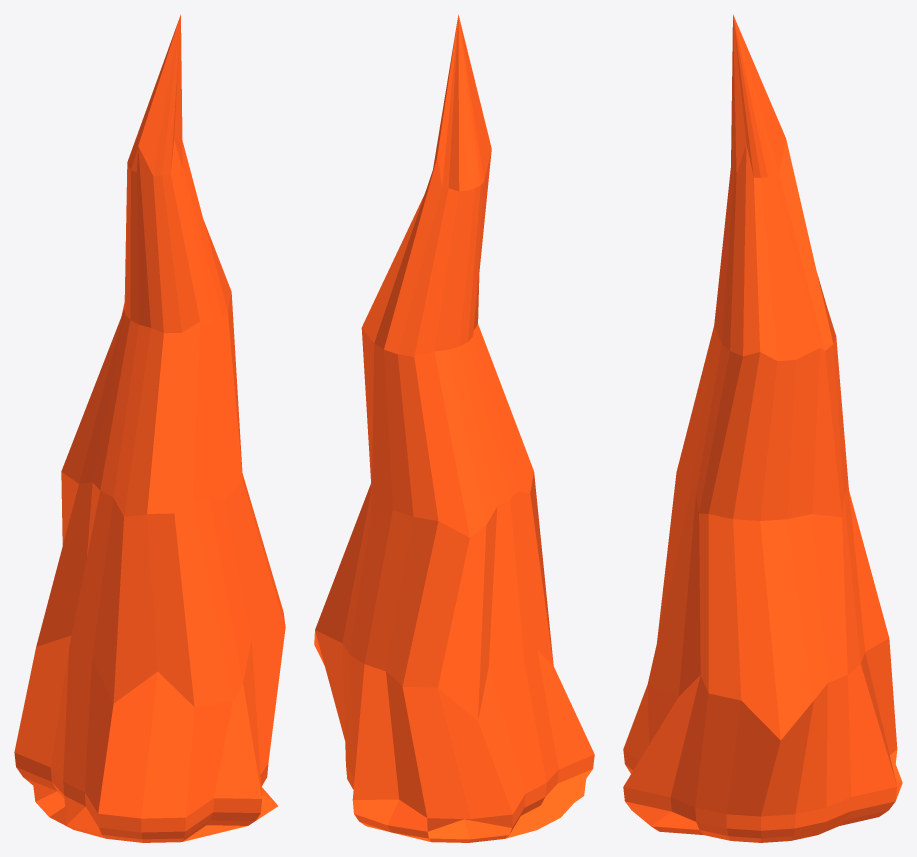
Rendered from Spike1.fbx.
3 views of the same model, side by side, from view 1: azimuth 30°, elevation 25°; view 2: azimuth 150°, elevation 25°; view 3: azimuth 270°, elevation 25° (orthographic). The views are drawn at different scales.
Visible parts, largest first — view 1: pCone4; view 2: pCone4; view 3: pCone4.
Boxes of the visible parts, box(x1,y1,x2,y2) form: pCone4: box(14, 14, 285, 842); pCone4: box(314, 14, 594, 842); pCone4: box(623, 14, 902, 842).
Bounding box in the file's own units: 50.1 × 153 × 48.88.
